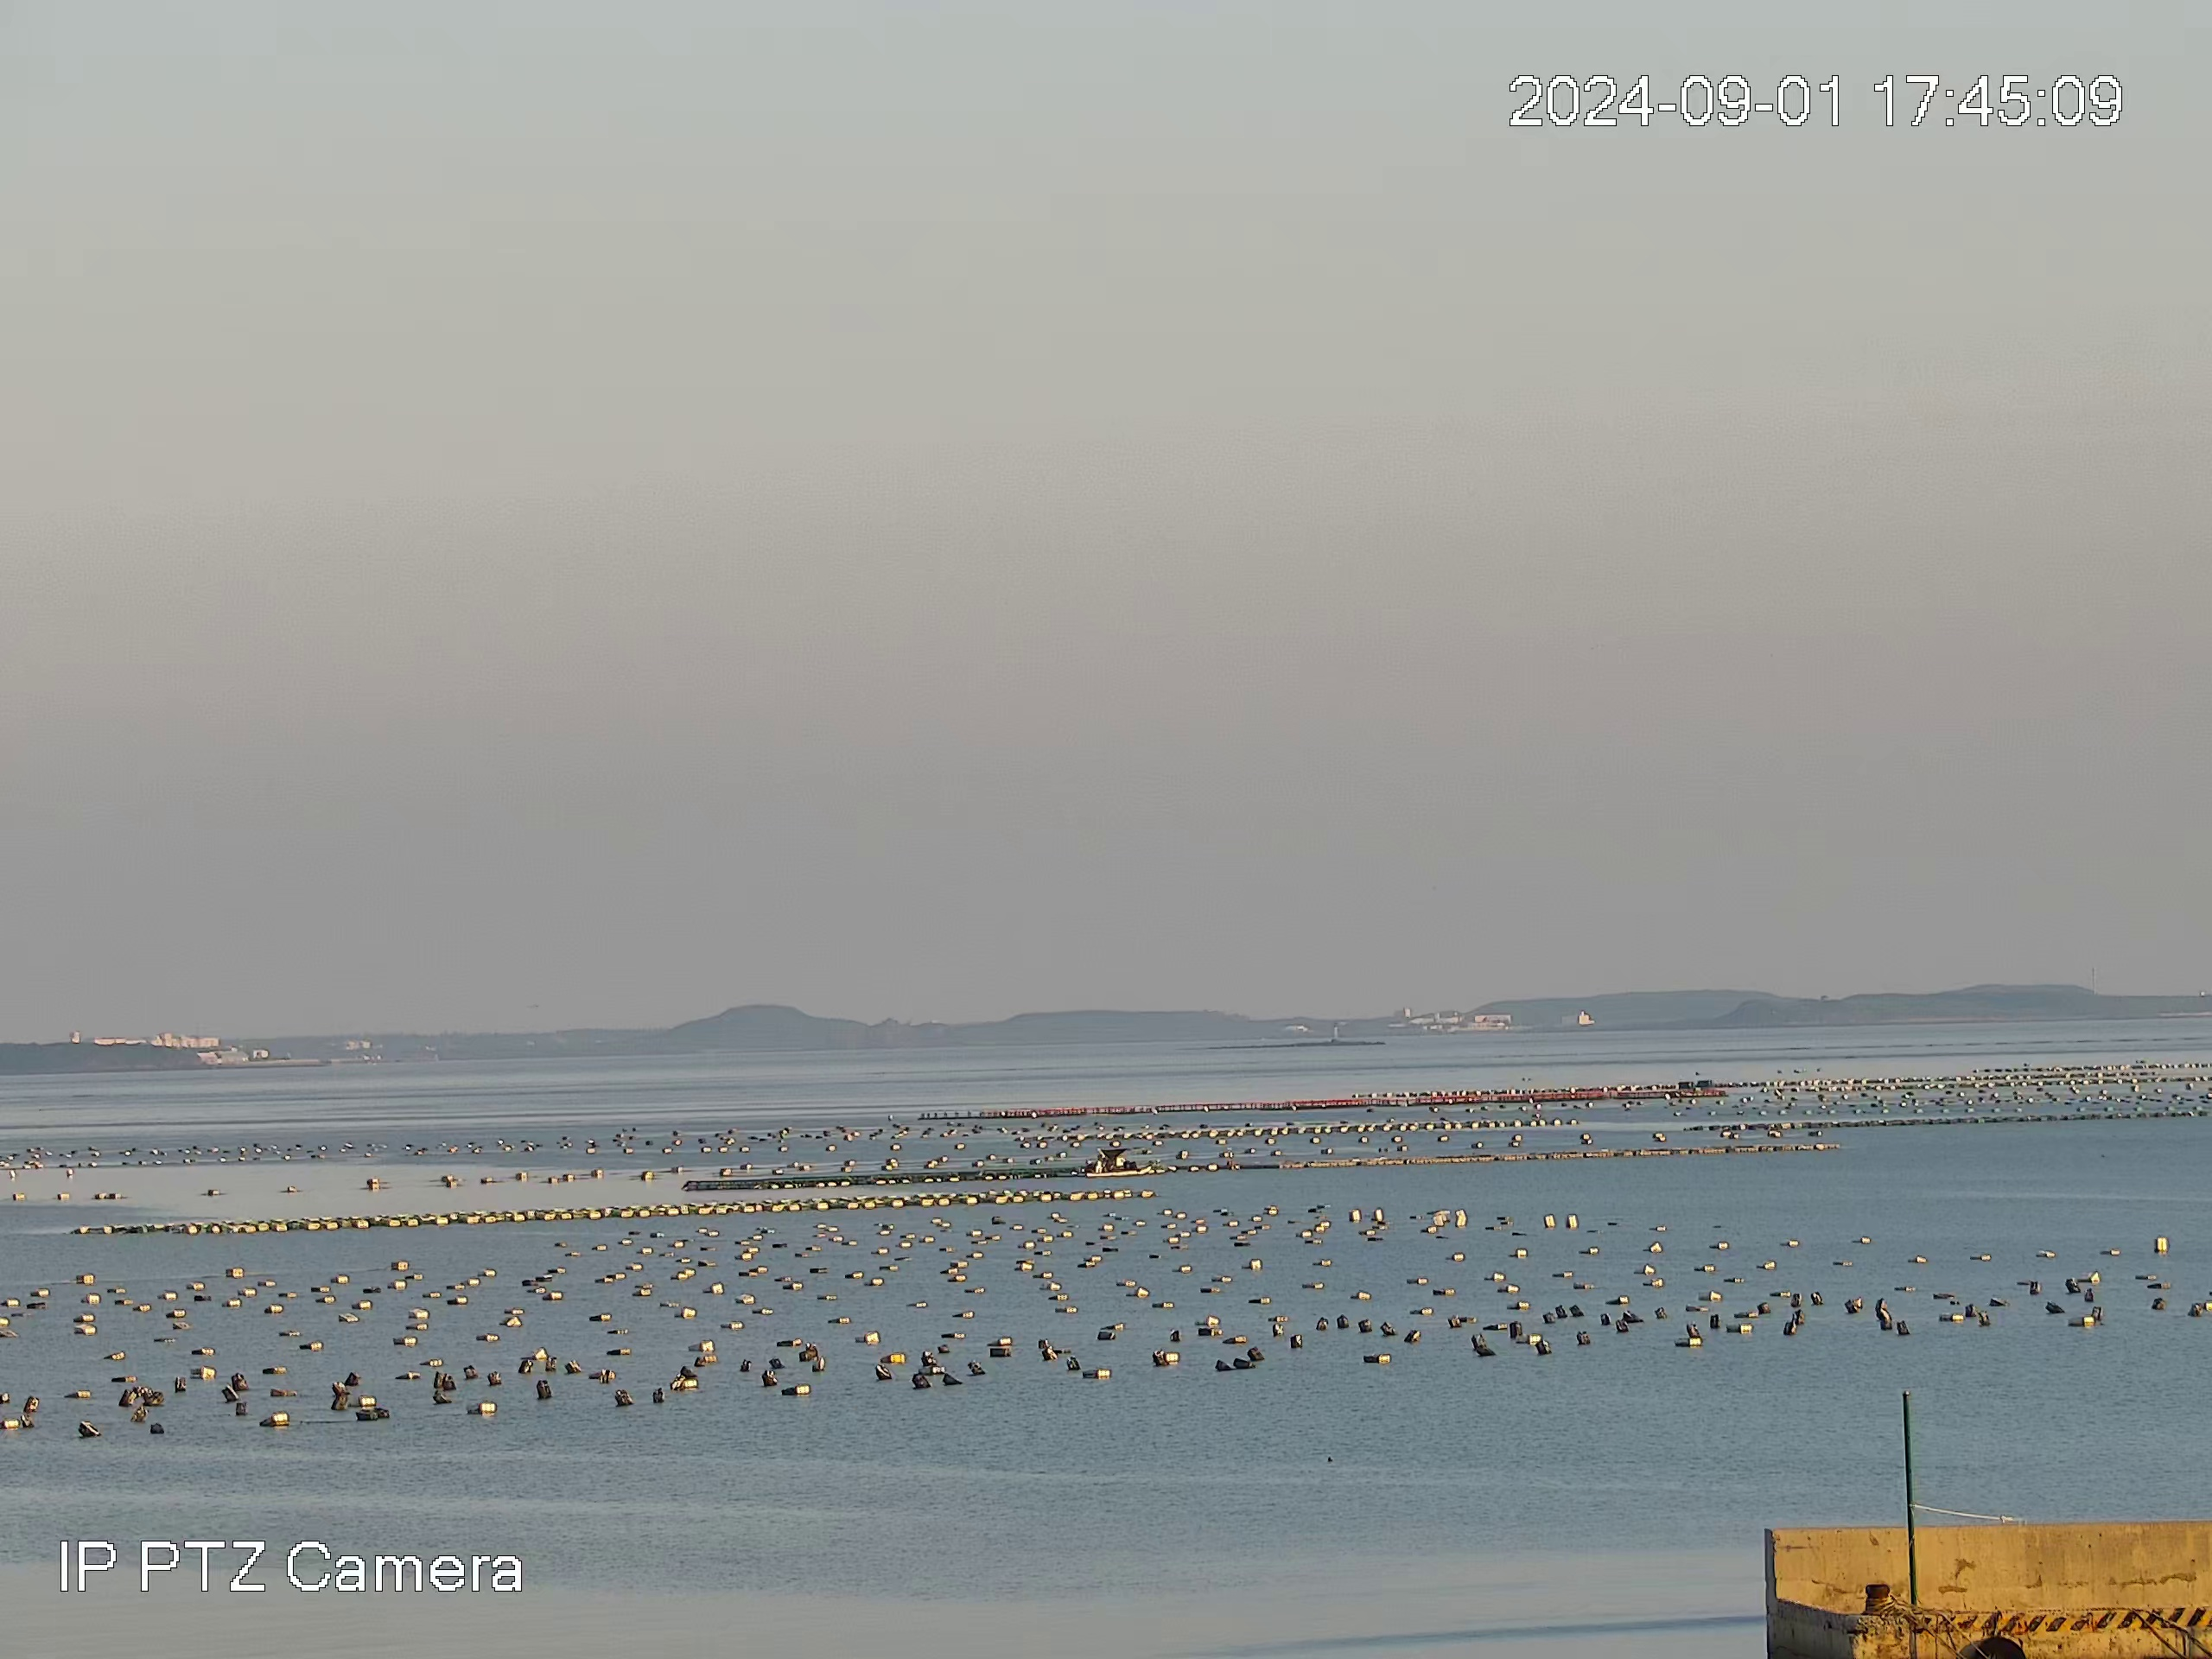boat: (1087, 1143, 1151, 1176)
